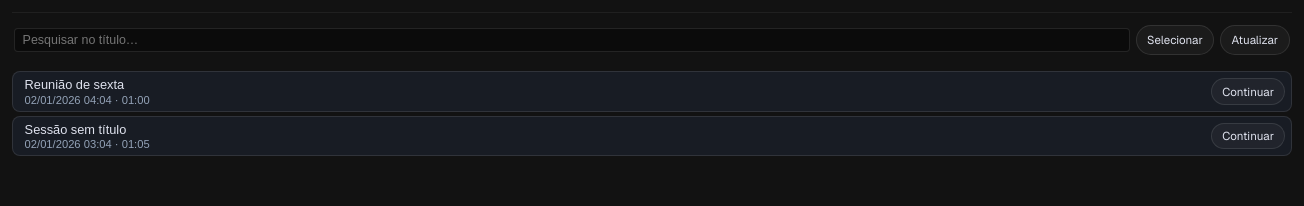
Test: HistoryPanel › exclui várias sessões selecionadas com confirmação
Expected: the text "Reunião de sexta" is shown, [25,77,124,92]
Click the button "Selecionar" at [1175, 40], box [1136,25,1214,55]
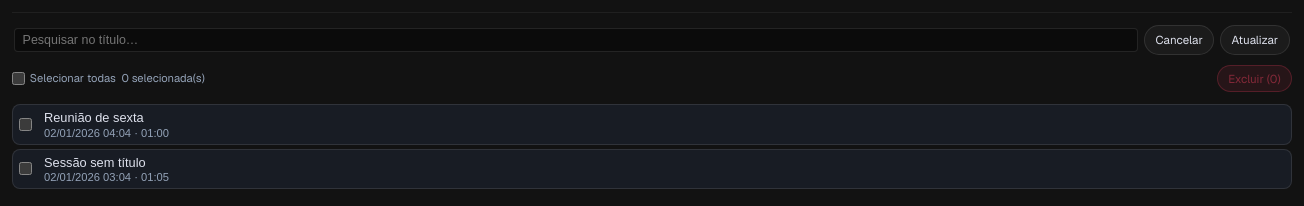
Click the checkbox named "Selecionar Reunião de sexta" at [25, 124], box [19,118,32,131]
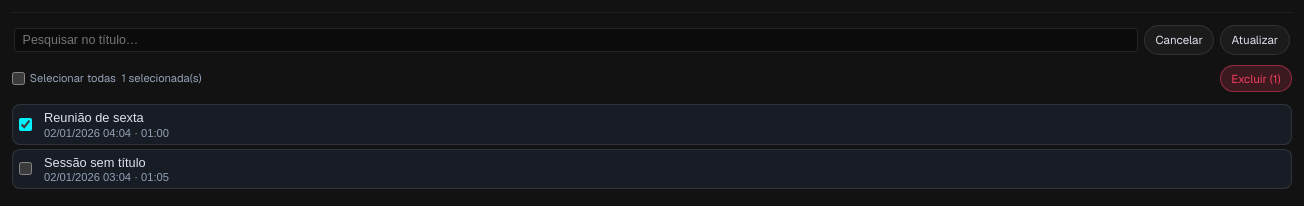
Click the checkbox named "Selecionar Sessão sem título" at [25, 169], box [19,162,32,175]
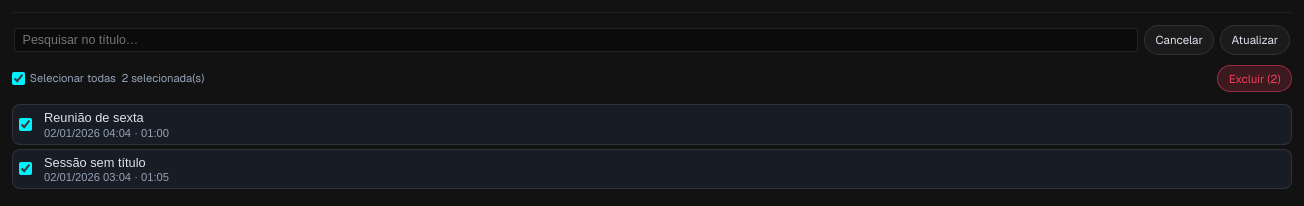
Click the button "Excluir (2)" at [1255, 78], box [1217,65,1292,92]
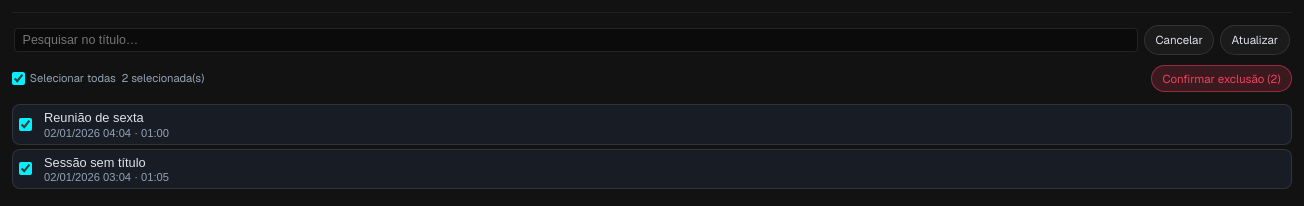
Click the button "Confirmar exclusão (2)" at [1222, 78], box [1151,65,1292,92]
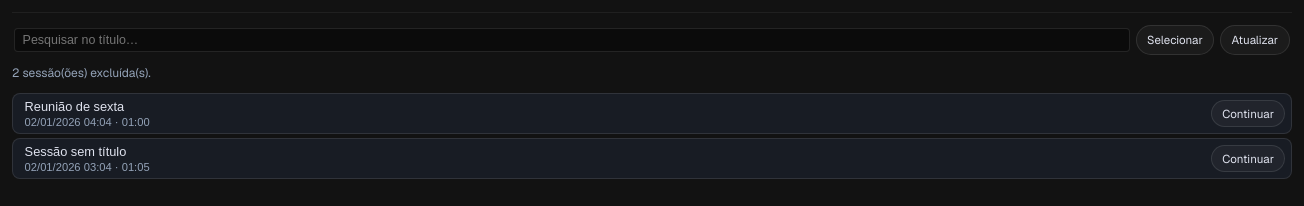
Expected: the text "2 sessão(ões) excluída(s)." is shown, [12,65,151,81]
Expected: the button "Selecionar" is shown, [1136,25,1214,55]
